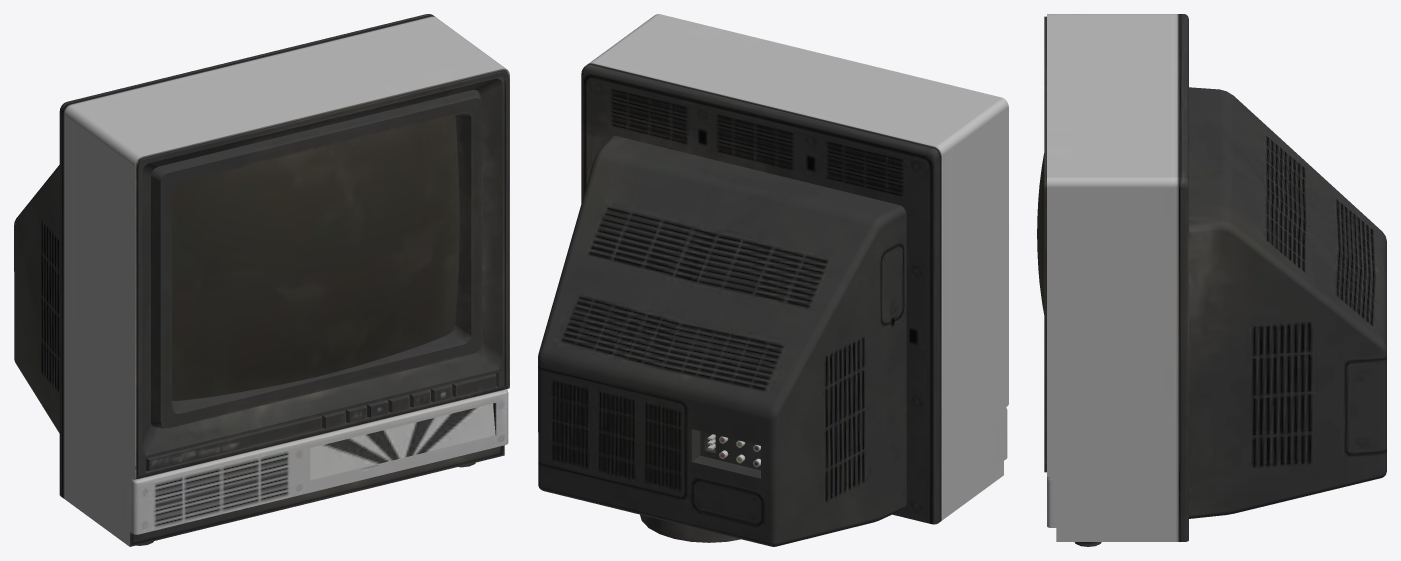
File: television_02.glb
The picture shows the model from 3 angles, left to right: view 1: azimuth 30°, elevation 25°; view 2: azimuth 150°, elevation 25°; view 3: azimuth 270°, elevation 25°; orthographic projection. The views are drawn at different scales.
Parts seen in each view (by area): view 1: television_02; view 2: television_02; view 3: television_02.
Boxes of the visible parts, x1=… form: television_02: x1=14, y1=14, x2=509, y2=546; television_02: x1=538, y1=14, x2=1008, y2=546; television_02: x1=1037, y1=14, x2=1386, y2=546.
Size of the model in its own units: 0.3998 by 0.4114 by 0.3502.
Materials: 1 (1 with a texture image).
